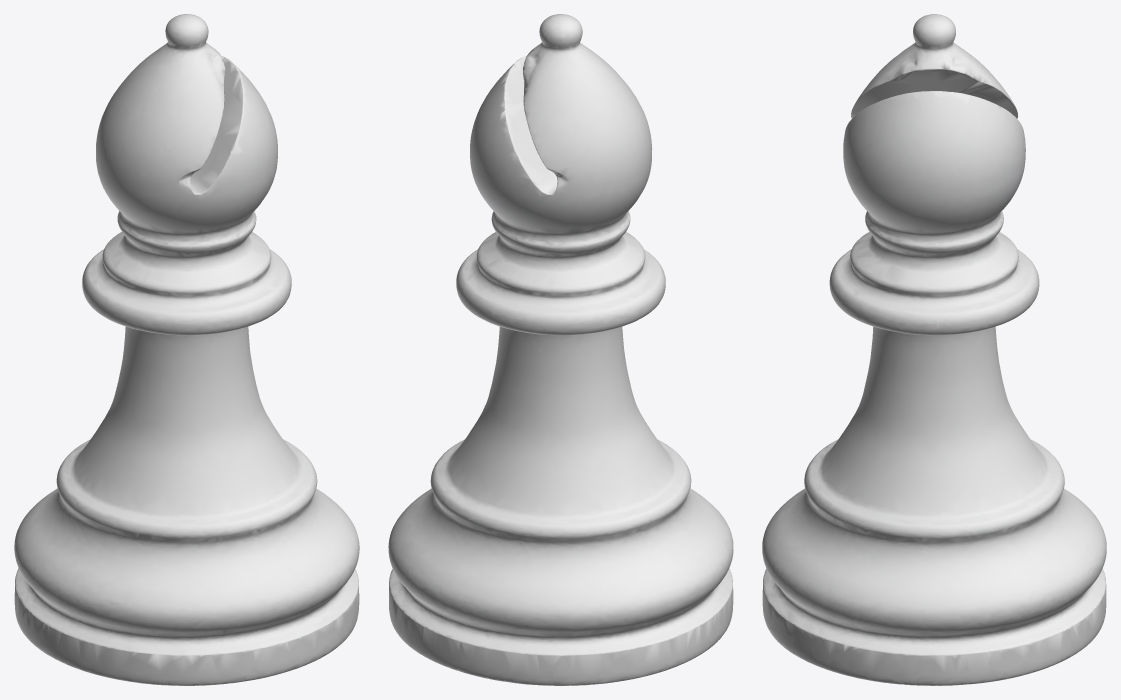
Rendered from bishop_low.glb.
The picture shows the model from 3 angles, left to right: view 1: azimuth 30°, elevation 25°; view 2: azimuth 150°, elevation 25°; view 3: azimuth 270°, elevation 25°; orthographic projection.
Parts seen in each view (by area): view 1: geometry_0; view 2: geometry_0; view 3: geometry_0.
Part boxes in pixels (x1,y1,x2,y2): geometry_0: (14,14,359,685); geometry_0: (388,14,733,685); geometry_0: (762,14,1106,685).
Size of the model in its own units: 0.5205 by 1 by 0.5205.
1 material, 1 textured.
